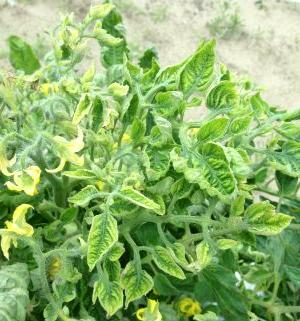Tomato leaf mosaic virus: (177, 38, 220, 98), (85, 211, 120, 271), (198, 156, 236, 195), (207, 81, 238, 113), (193, 119, 230, 143)
